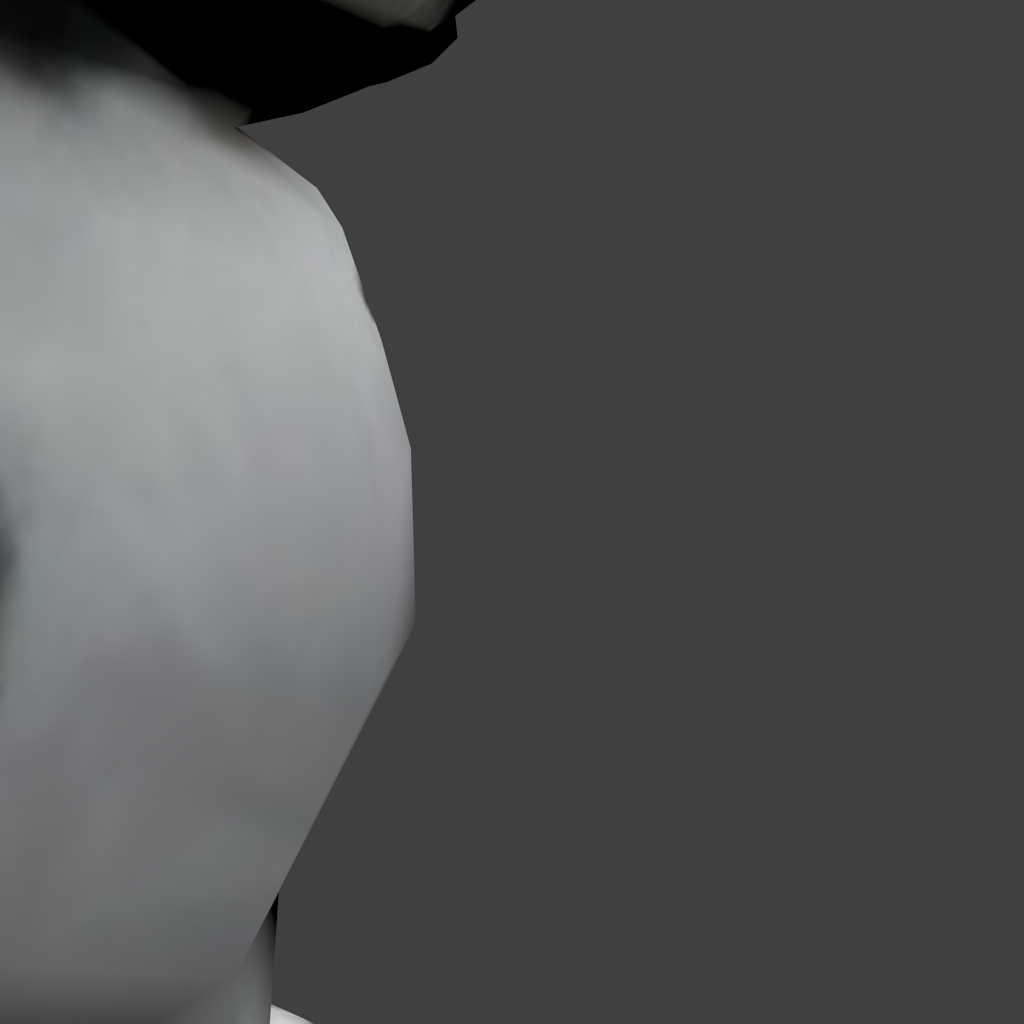Cat: (0, 0, 497, 1024)
